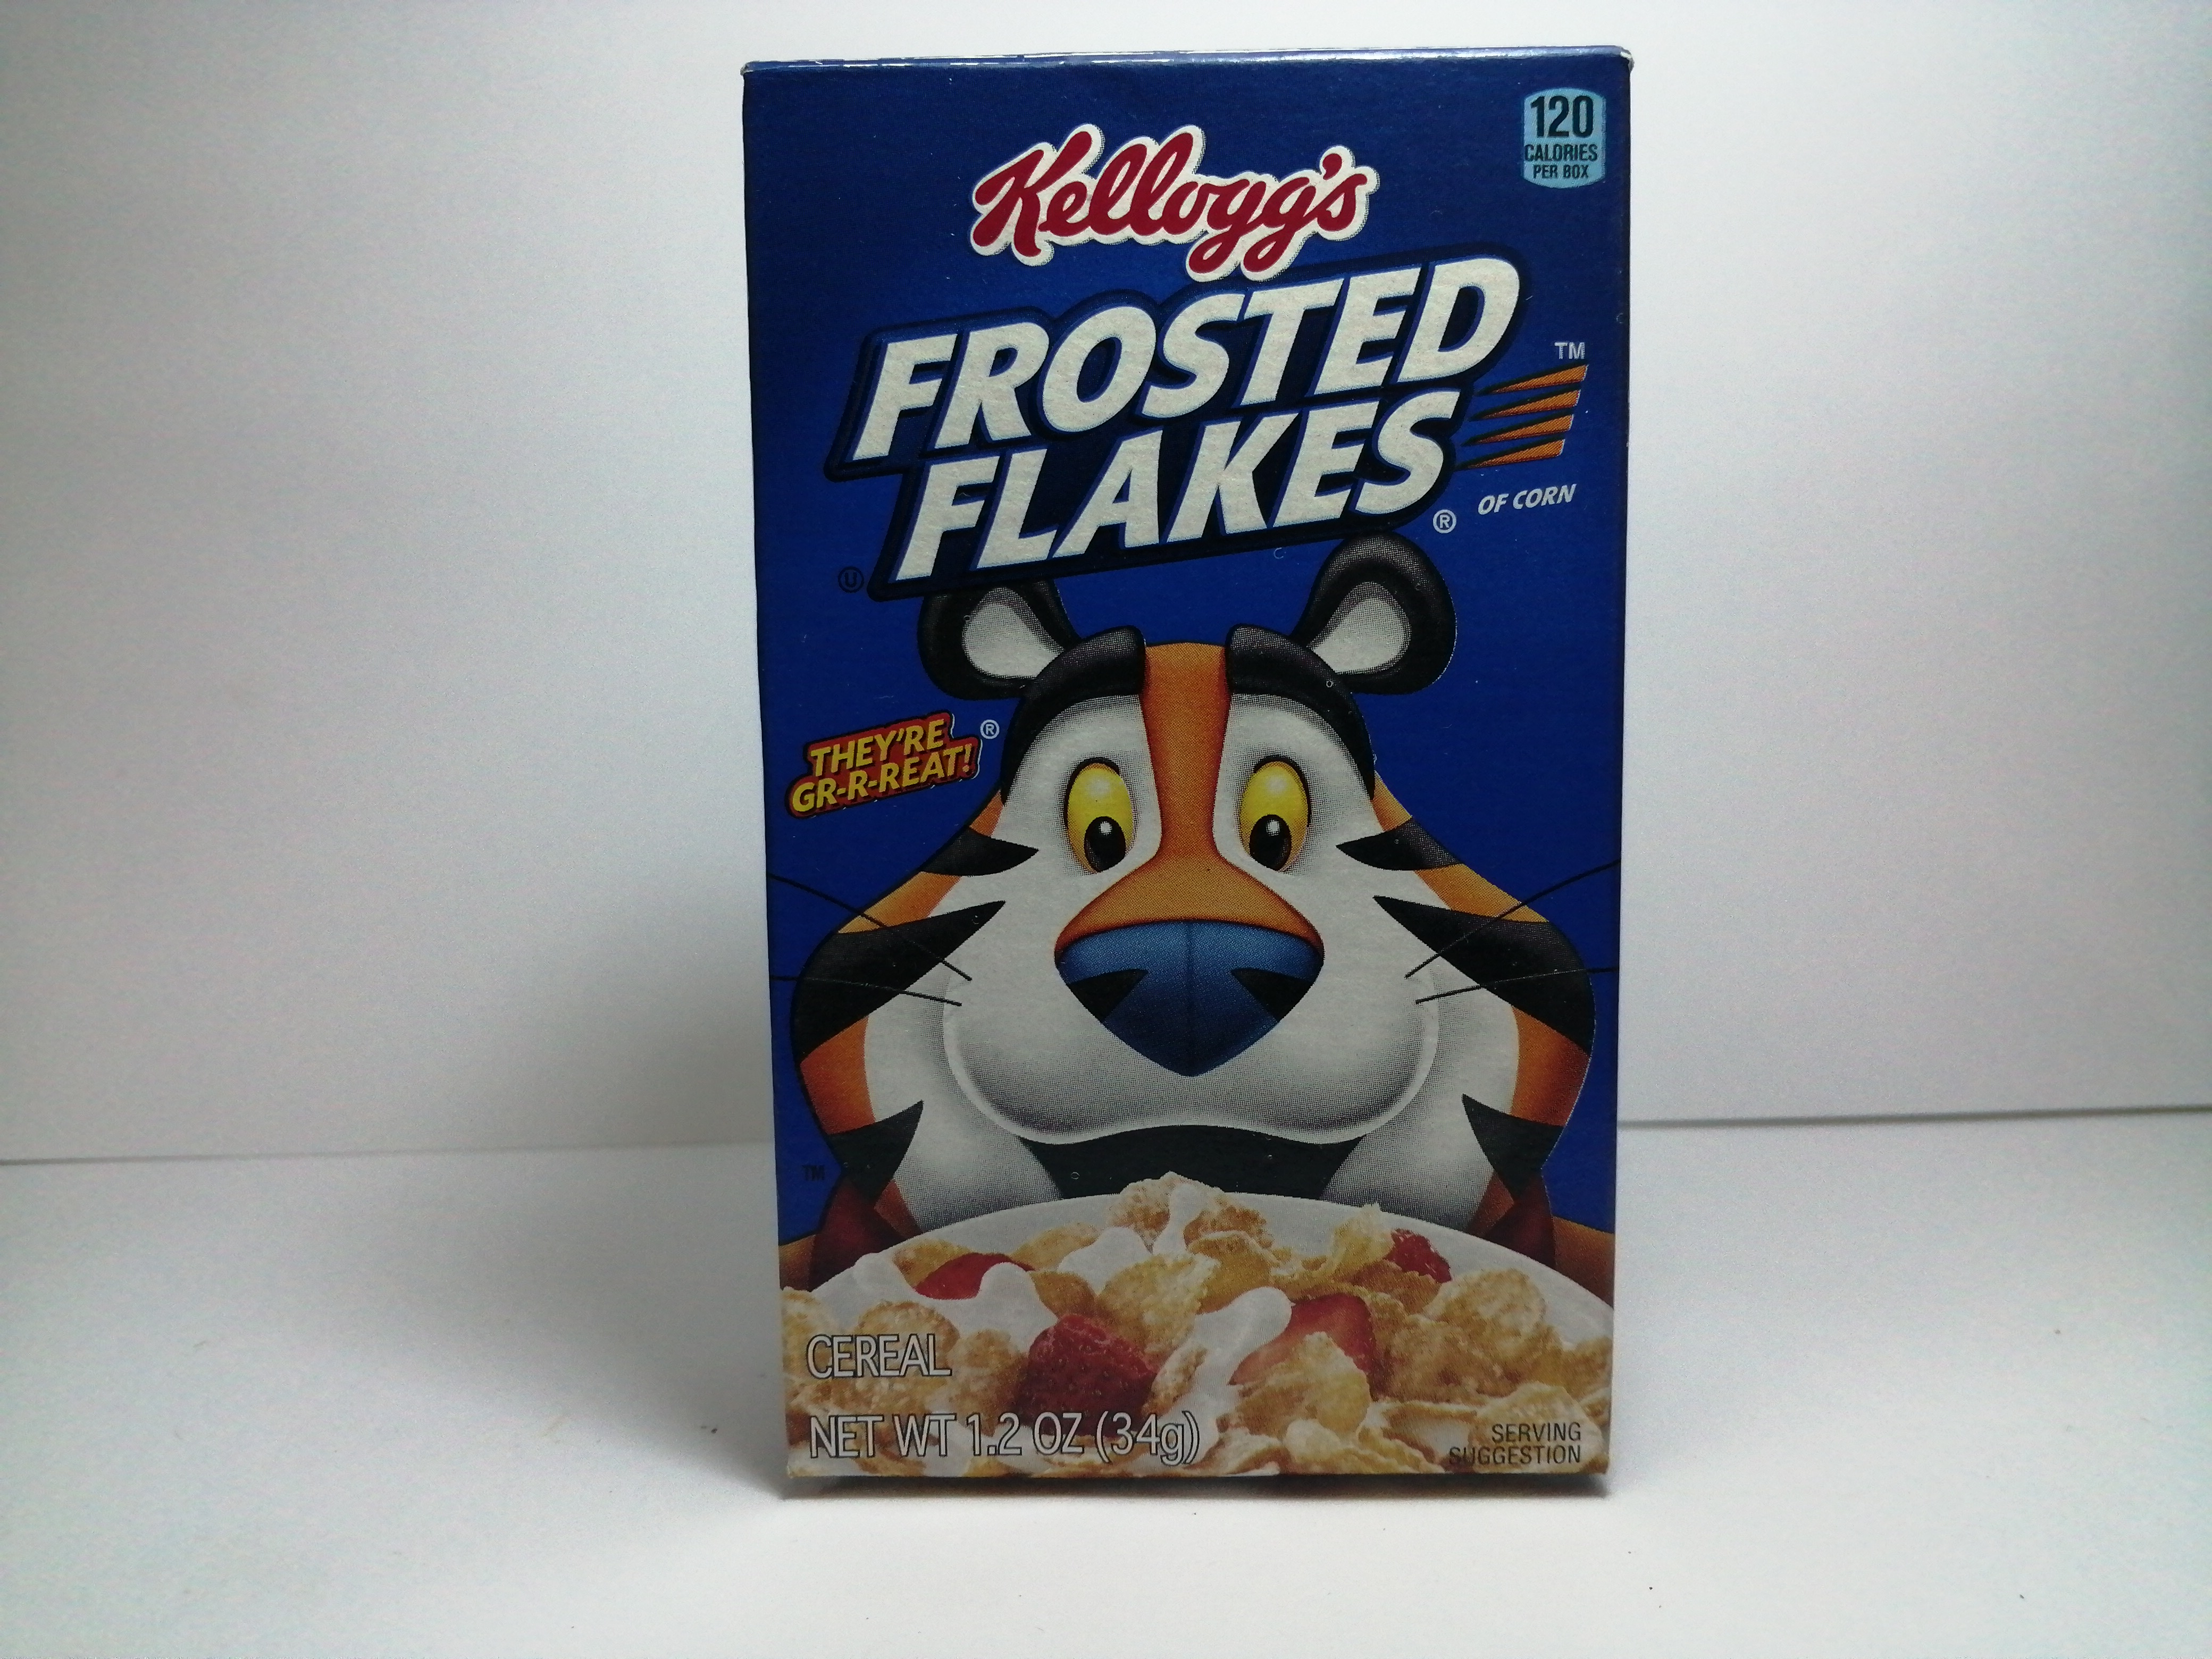cereal azucarado: (716, 28, 1655, 1520)
